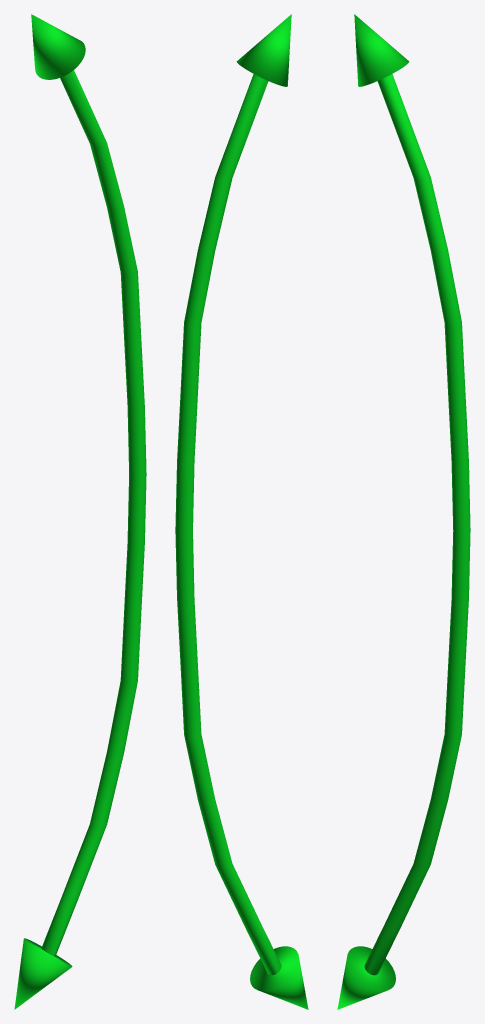
The model's file is Spotlight_GreenArrow_Long.glb.
3 views of the same model, side by side, from view 1: azimuth 30°, elevation 25°; view 2: azimuth 210°, elevation 25°; view 3: azimuth 330°, elevation 25° (orthographic).
Visible parts, largest first — view 1: Cylinder.040, Cone.024, Cone.026; view 2: Cylinder.040, Cone.024, Cone.026; view 3: Cylinder.040, Cone.024, Cone.026.
Boxes of the visible parts, box(x1,y1,x2,y2) form: Cylinder.040: box(41, 70, 146, 956); Cone.024: box(31, 14, 85, 79); Cone.026: box(14, 938, 72, 1009); Cylinder.040: box(175, 74, 281, 975); Cone.024: box(236, 14, 291, 86); Cone.026: box(250, 946, 308, 1009); Cylinder.040: box(364, 74, 470, 975); Cone.024: box(354, 14, 409, 86); Cone.026: box(337, 946, 395, 1009).
Bounding box in the file's own units: 0.2414 × 1.75 × 0.0901.
